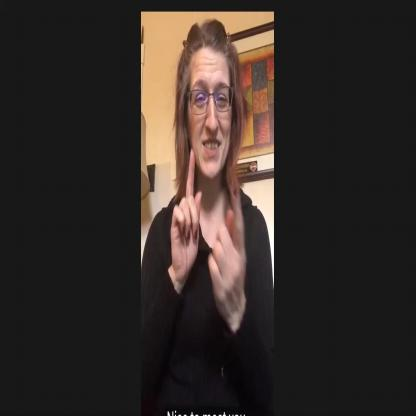NiceToMeetYou: (162, 151, 249, 324)
